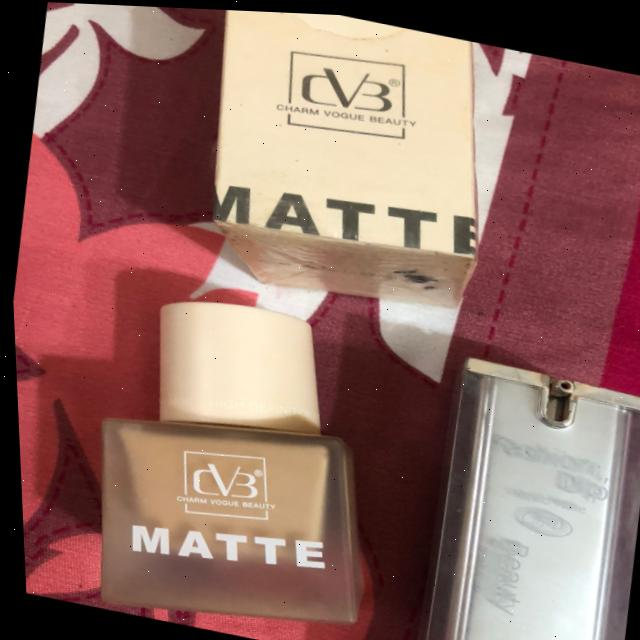foundation: (18, 245, 426, 640)
primer: (389, 318, 640, 640)
